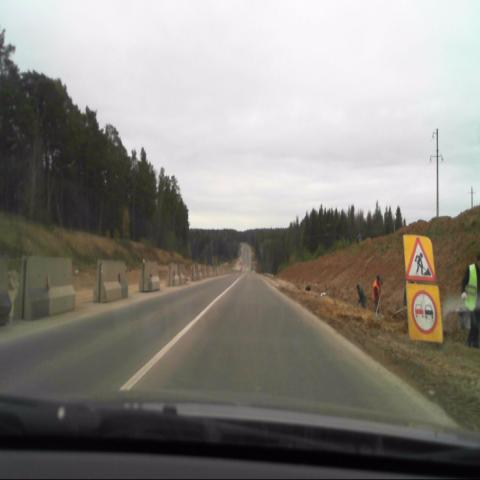1_25: (404, 235, 434, 282)
